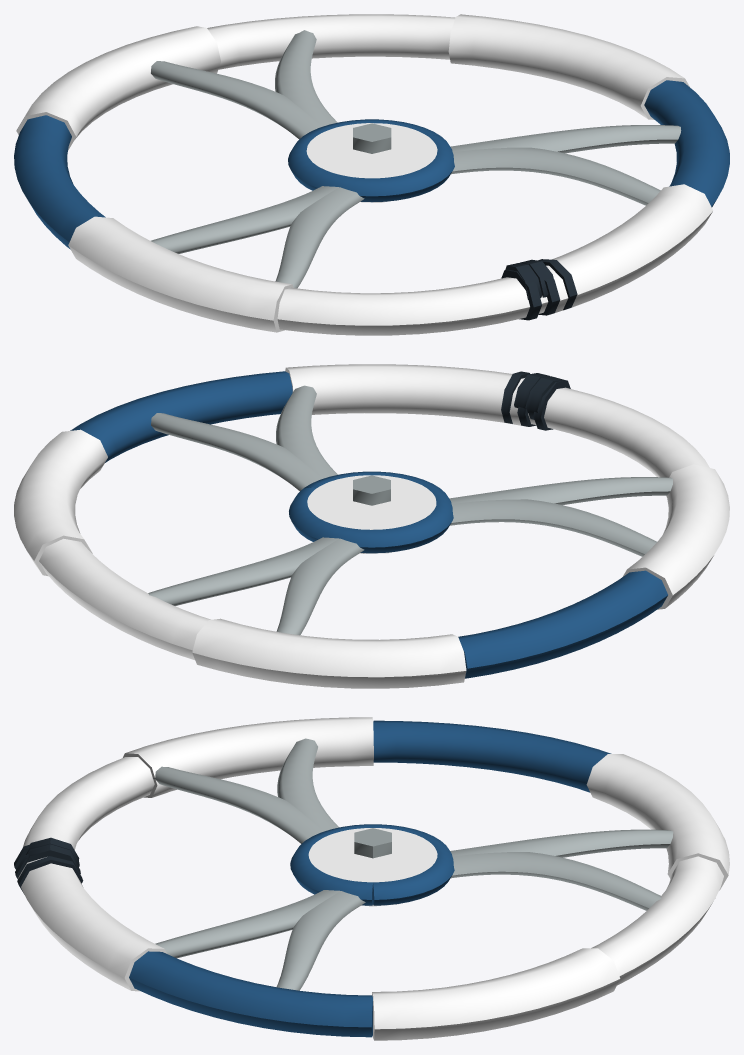
Rendered from Wheel_19_SR_銀嶺・青差し.glb.
The picture shows the model from 3 angles, top to bottom: view 1: azimuth 30°, elevation 25°; view 2: azimuth 150°, elevation 25°; view 3: azimuth 270°, elevation 25°; orthographic projection.
Parts seen in each view (by area): view 1: Wheel_19_SR; view 2: Wheel_19_SR; view 3: Wheel_19_SR.
Boxes of the visible parts, <box> form: Wheel_19_SR: <box>14,14,729,335</box>; Wheel_19_SR: <box>14,364,729,688</box>; Wheel_19_SR: <box>14,717,729,1040</box>.
Size of the model in its own units: 0.326 by 0.0299 by 0.3282.
4 materials, 4 textured.
